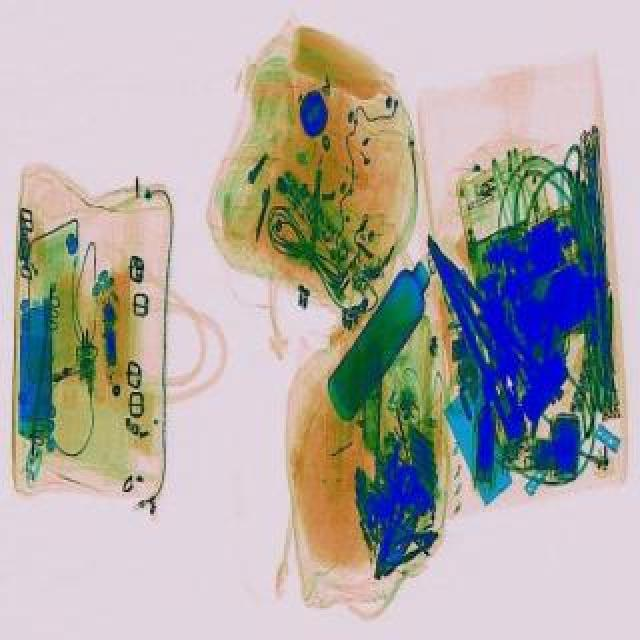wrench: (386, 520, 444, 564)
